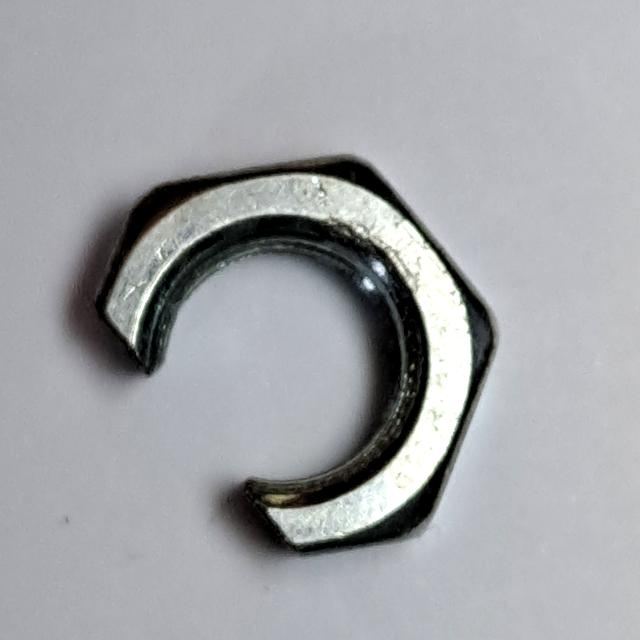Fracture: (79, 139, 504, 569)
